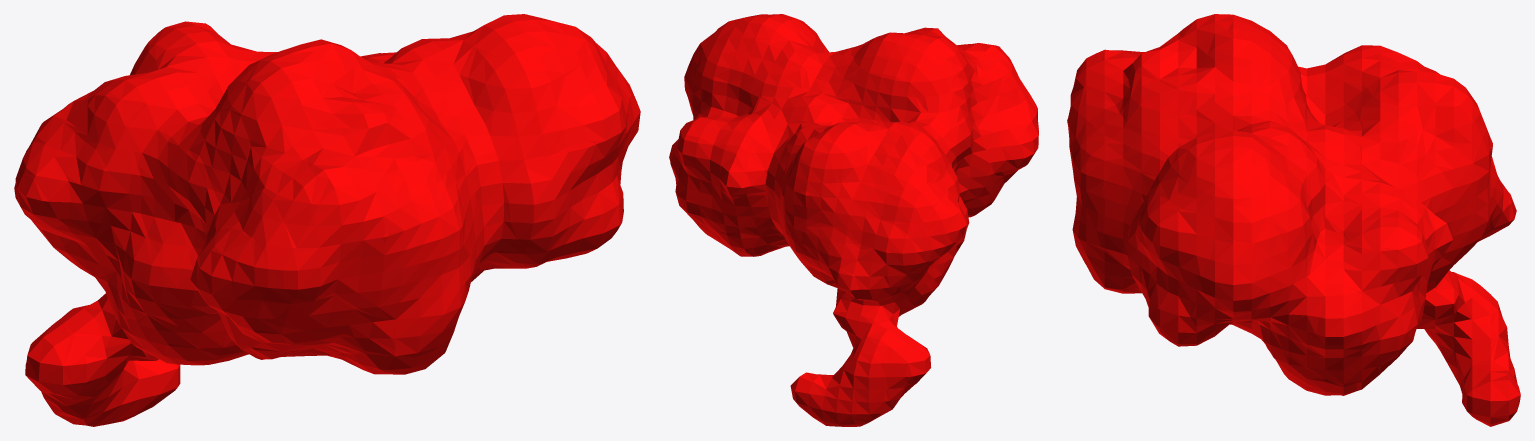
Rendered from rsmA_coarse.dae.
The picture shows the model from 3 angles, left to right: view 1: azimuth 30°, elevation 25°; view 2: azimuth 150°, elevation 25°; view 3: azimuth 270°, elevation 25°; orthographic projection. The views are drawn at different scales.
Visible parts, largest first — view 1: rsmA; view 2: rsmA; view 3: rsmA.
Boxes of the visible parts, box(x1,y1,x2,y2) form: rsmA: box(14, 14, 640, 426); rsmA: box(669, 14, 1038, 426); rsmA: box(1067, 14, 1520, 426).
Size of the model in its own units: 78.91 by 68.86 by 68.55.
